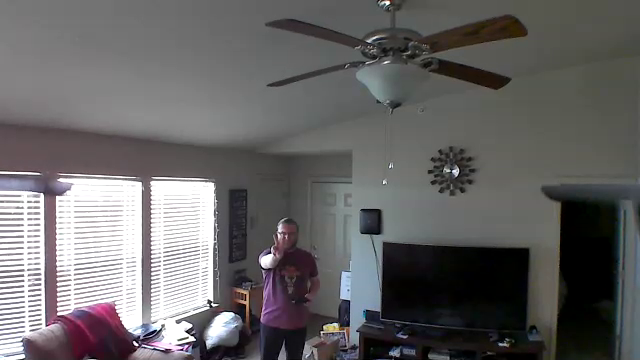peace: (266, 233, 290, 259)
